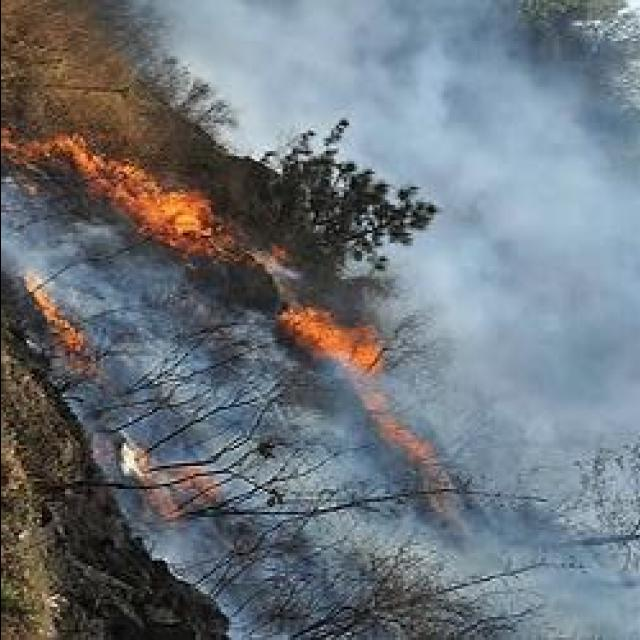fire: (68, 140, 224, 264), (282, 306, 382, 371)
smoke: (440, 101, 640, 299), (184, 0, 518, 117), (456, 290, 634, 452), (154, 462, 382, 582), (484, 532, 640, 640), (0, 190, 112, 280)
